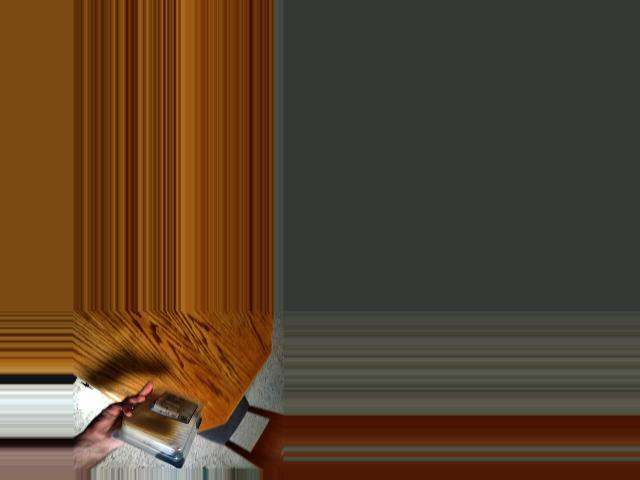cheese: (119, 396, 202, 455)
